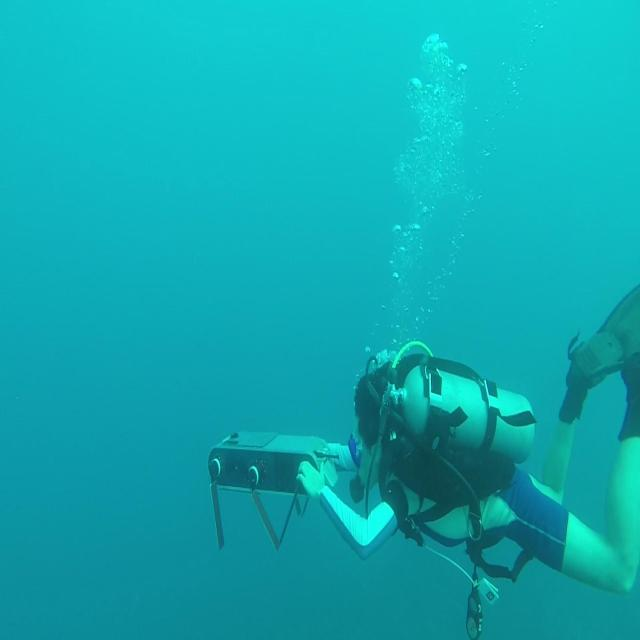human: (295, 283, 639, 597)
